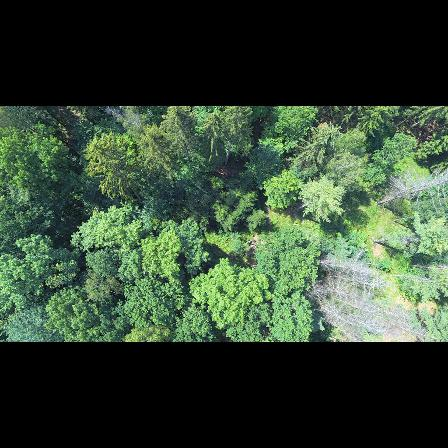Dead: (378, 170, 448, 206), (317, 255, 372, 278), (324, 295, 378, 316), (316, 305, 355, 329), (385, 320, 436, 338), (322, 320, 362, 342), (338, 275, 388, 290), (325, 285, 353, 298)
